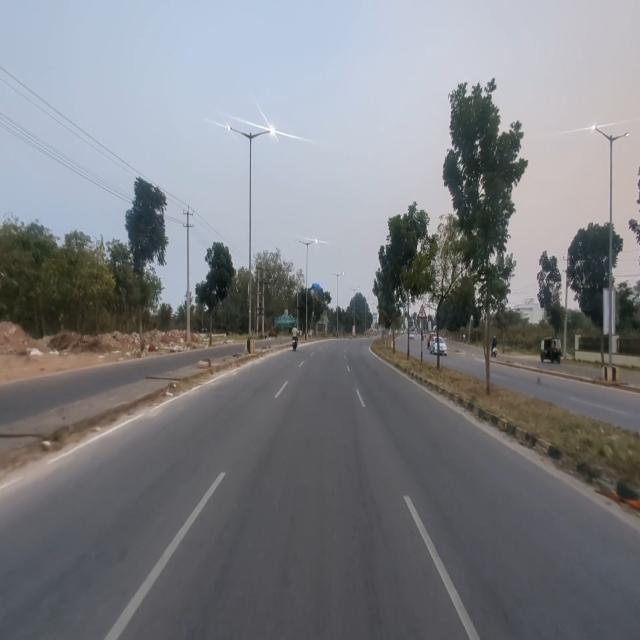bien_cam: (416, 301, 428, 323)
